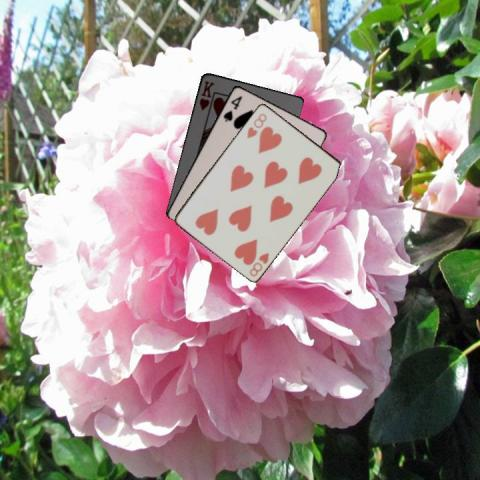4s: (220, 92, 243, 123)
8h: (246, 249, 271, 278), (244, 110, 268, 140)
Kh: (196, 77, 215, 112)
